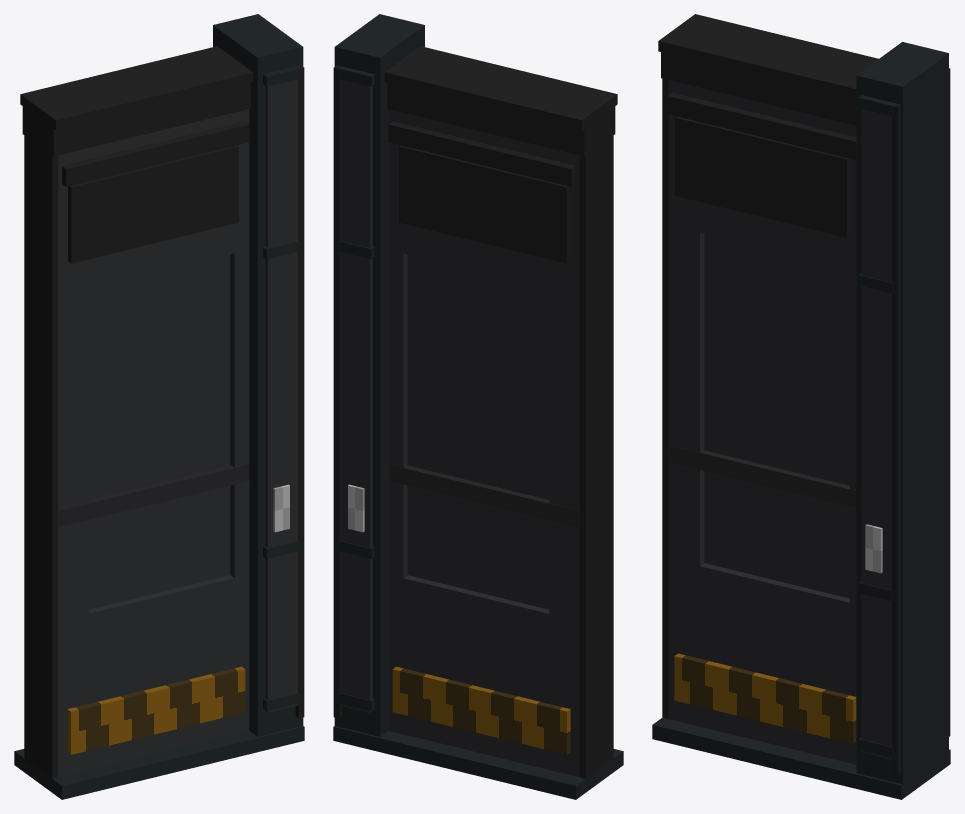
The model's file is CMU3DCMDoubleDoorAlmayerSolidCloud.glb.
3 renders of one model, left to right at view 1: azimuth 30°, elevation 25°; view 2: azimuth 150°, elevation 25°; view 3: azimuth 330°, elevation 25°, orthographic. The views are drawn at different scales.
Visible parts, largest first — view 1: recessed solid central infill, leaf lower rail, meeting edge seal, jamb recessed tall face -1, outer structural jamb, upper recessed header -1, continuous overhead structural guide, leaf upper rail, leaf west stile, original lower hazard stripe -1, full opening threshold, leaf east stile (+5 smaller); view 2: recessed solid central infill, leaf lower rail, meeting edge seal, jamb recessed tall face 1, outer structural jamb, upper recessed header 1, continuous overhead structural guide, leaf upper rail, leaf west stile, original lower hazard stripe 1, upper guide lip, full opening threshold (+5 smaller); view 3: recessed solid central infill, outer structural jamb, leaf lower rail, jamb recessed tall face -1, upper recessed header -1, leaf west stile, continuous overhead structural guide, leaf upper rail, original lower hazard stripe -1, full opening threshold, jamb pale outer rail -1, upper guide lip (+6 smaller).
Boxes of the visible parts, x1,y1,x2,y2 form: recessed solid central infill: [88, 254, 230, 609]; leaf lower rail: [58, 575, 249, 777]; meeting edge seal: [24, 135, 58, 778]; jamb recessed tall face -1: [265, 79, 298, 712]; outer structural jamb: [213, 14, 303, 736]; upper recessed header -1: [68, 145, 238, 263]; continuous overhead structural guide: [22, 48, 250, 156]; leaf upper rail: [58, 109, 249, 296]; leaf west stile: [58, 289, 88, 620]; original lower hazard stripe -1: [67, 666, 245, 754]; full opening threshold: [14, 726, 304, 799]; leaf east stile: [230, 250, 249, 577]; recessed solid central infill: [407, 254, 549, 609]; leaf lower rail: [388, 575, 579, 777]; meeting edge seal: [579, 135, 613, 778]; jamb recessed tall face 1: [339, 79, 372, 712]; outer structural jamb: [334, 14, 424, 736]; upper recessed header 1: [399, 145, 569, 263]; continuous overhead structural guide: [387, 48, 615, 156]; leaf upper rail: [388, 109, 579, 296]; leaf west stile: [549, 289, 579, 620]; original lower hazard stripe 1: [392, 666, 570, 754]; upper guide lip: [384, 46, 617, 130]; full opening threshold: [333, 726, 623, 799]; recessed solid central infill: [704, 233, 849, 598]; outer structural jamb: [856, 42, 948, 784]; leaf lower rail: [668, 558, 856, 764]; jamb recessed tall face -1: [861, 109, 891, 759]; upper recessed header -1: [675, 116, 850, 237]; leaf west stile: [668, 225, 704, 565]; continuous overhead structural guide: [661, 16, 875, 125]; leaf upper rail: [668, 80, 856, 270]; original lower hazard stripe -1: [674, 653, 856, 744]; full opening threshold: [652, 717, 950, 799]; jamb pale outer rail -1: [892, 103, 900, 774]; upper guide lip: [658, 14, 878, 99].
Bounding box in the file's own units: 1 × 2.73 × 0.38.
6 materials, 2 textured.
